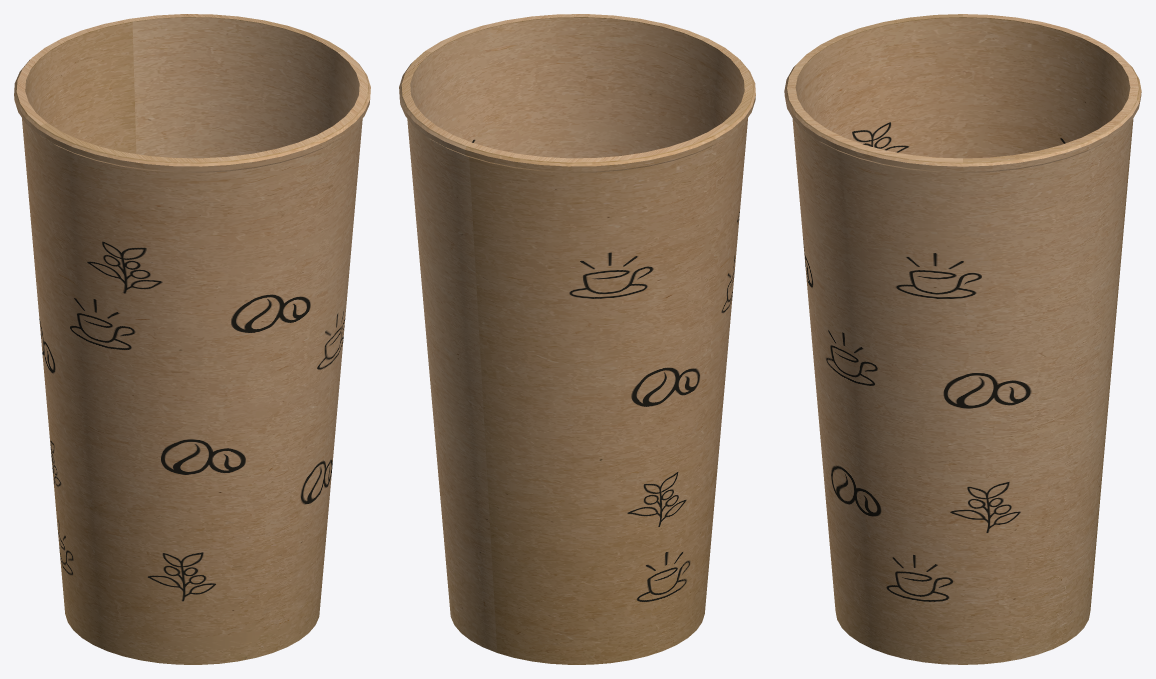
Rendered from Paper cup.fbx.
The picture shows the model from 3 angles, left to right: view 1: azimuth 30°, elevation 25°; view 2: azimuth 150°, elevation 25°; view 3: azimuth 270°, elevation 25°; orthographic projection.
Visible parts, largest first — view 1: Paper bag; view 2: Paper bag; view 3: Paper bag.
Part boxes in pixels (left/top/right/bottom): Paper bag: left=14, top=14, right=370, bottom=664; Paper bag: left=399, top=14, right=755, bottom=664; Paper bag: left=784, top=14, right=1141, bottom=664.
Size of the model in its own units: 61.92 by 100 by 61.92.
1 material, 1 textured.
